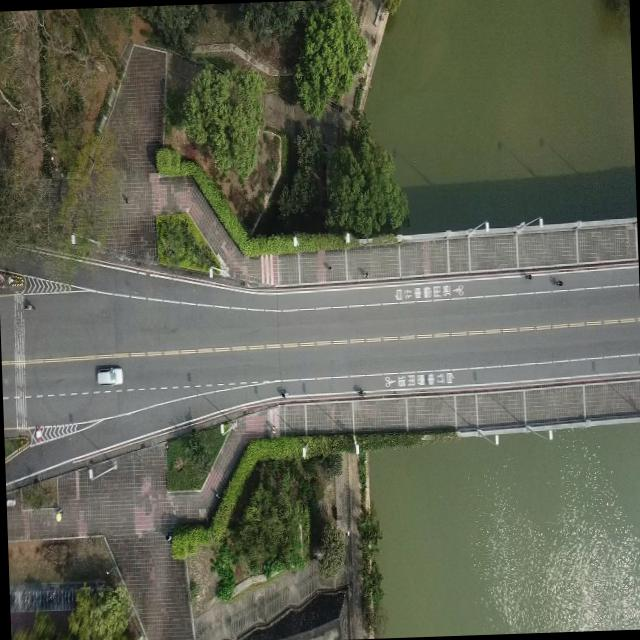bike: (352, 382, 364, 394), (276, 384, 286, 396)
car: (94, 362, 122, 386)
